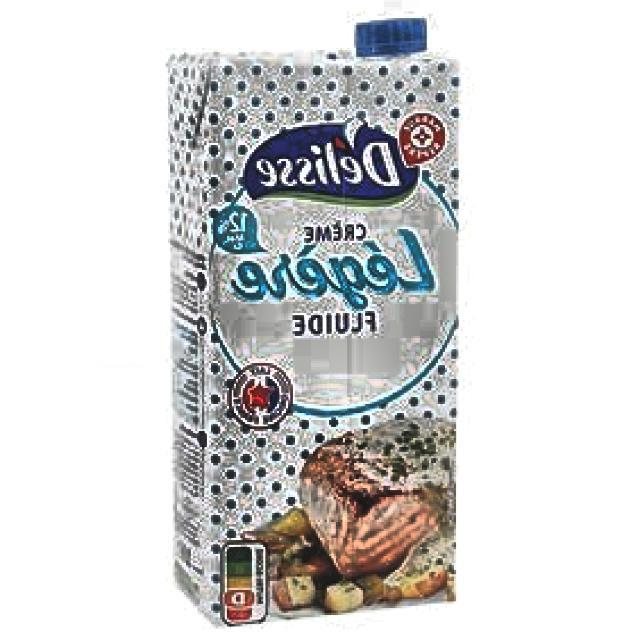cardboard: (168, 34, 463, 626)
